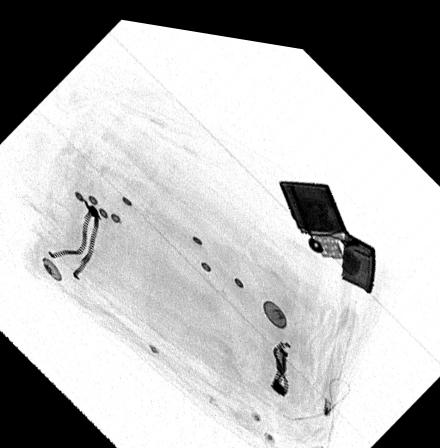Lighter: (277, 170, 376, 284)
